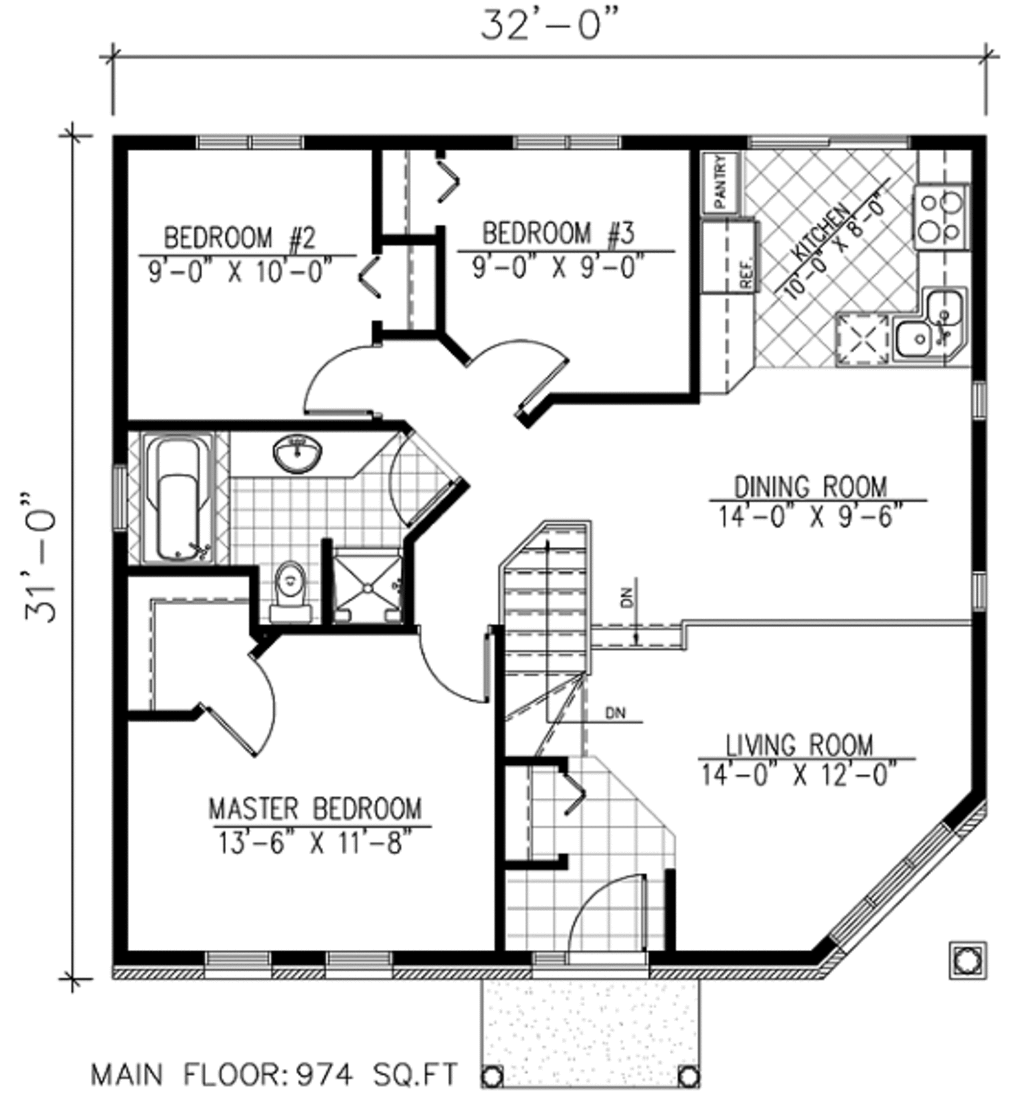door: (460, 307, 577, 416), (179, 656, 284, 761), (553, 866, 650, 972), (280, 343, 380, 426), (384, 438, 467, 529)
large_sink: (247, 555, 311, 633)
small_sink: (252, 428, 348, 485)
stairs: (497, 487, 638, 758)
tub: (136, 431, 231, 563)
twin_sink: (880, 270, 980, 370)
window: (750, 131, 928, 158), (192, 131, 314, 158), (509, 129, 626, 156), (204, 950, 270, 978), (323, 948, 387, 975), (974, 373, 987, 426), (974, 563, 987, 616)
